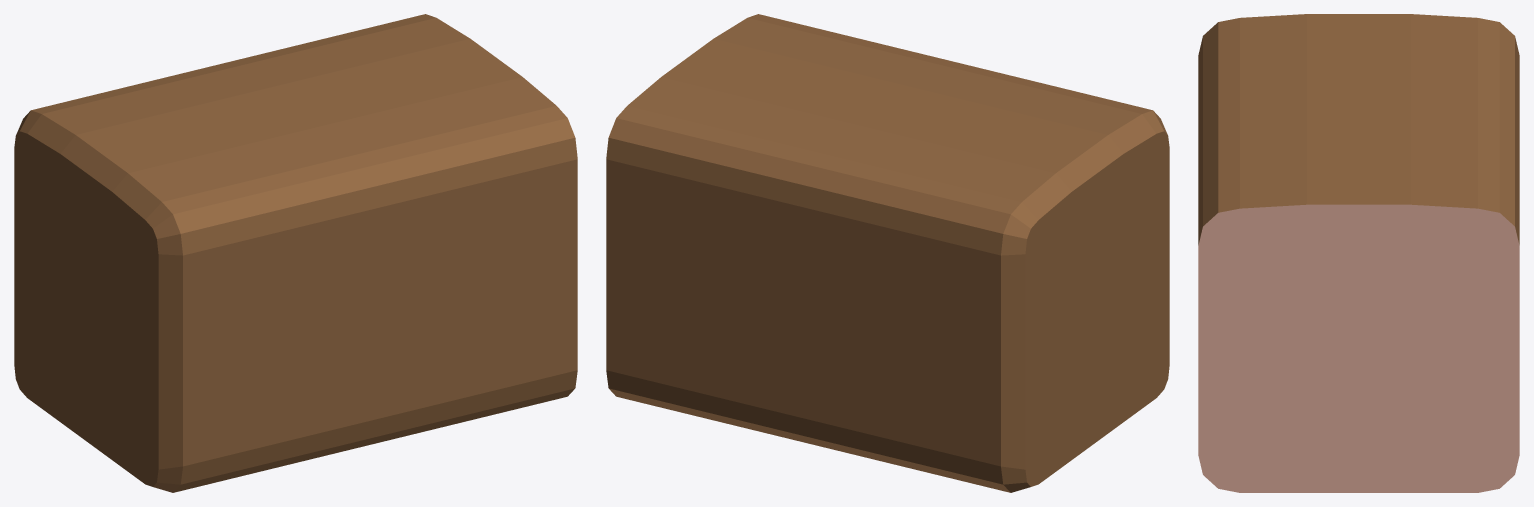
File: bread.glb
3 renders of one model, left to right at view 1: azimuth 30°, elevation 25°; view 2: azimuth 150°, elevation 25°; view 3: azimuth 270°, elevation 25°, orthographic.
Visible parts, largest first — view 1: Bread; view 2: Bread; view 3: Bread.
Part boxes in pixels (bbox=[...]): Bread: bbox=[14, 14, 577, 492]; Bread: bbox=[606, 14, 1169, 492]; Bread: bbox=[1198, 14, 1519, 492].
Size of the model in its own units: 0.1836 by 0.1244 by 0.1257.
1 material, 1 textured.
